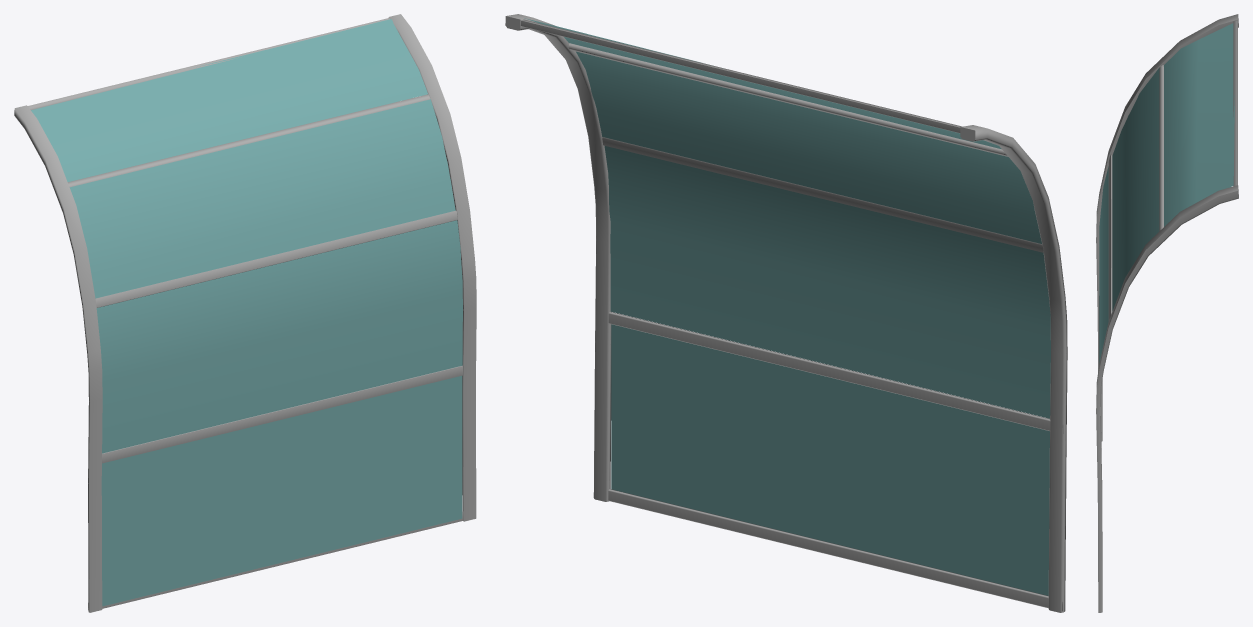
The model's file is fenetre_chambre_SM.fbx.
3 renders of one model, left to right at view 1: azimuth 30°, elevation 25°; view 2: azimuth 150°, elevation 25°; view 3: azimuth 270°, elevation 25°, orthographic. The views are drawn at different scales.
Visible parts, largest first — view 1: fenetres2; view 2: fenetres2; view 3: fenetres2.
Part boxes in pixels (bbox=[...]): fenetres2: bbox=[14, 14, 476, 612]; fenetres2: bbox=[505, 14, 1067, 612]; fenetres2: bbox=[1096, 14, 1238, 612].
Bounding box in the file's own units: 9.27 × 3.16 × 10.31.
